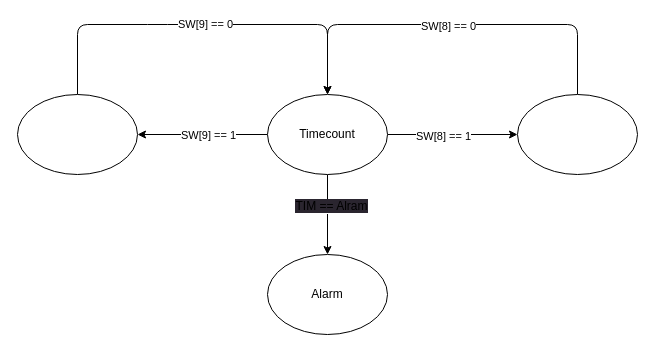
This 655x352 diagram has some shape labels left out. Each missing label, with the box of its shape:
Alarmset: (516, 94, 638, 174)
Timeset: (16, 94, 138, 174)
